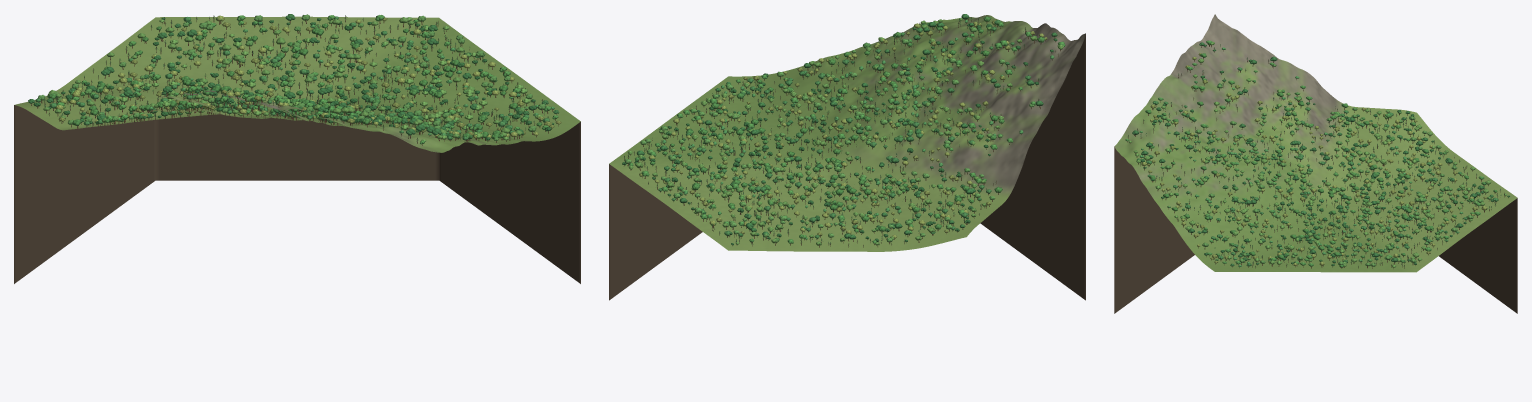
The picture shows the model from 3 angles, left to right: view 1: azimuth 30°, elevation 25°; view 2: azimuth 150°, elevation 25°; view 3: azimuth 270°, elevation 25°; orthographic projection. The views are drawn at different scales.
Parts seen in each view (by area): view 1: hex_side_cut, terrain, broadleaf_canopy, trunks, conifer_canopy; view 2: terrain, broadleaf_canopy, hex_side_cut, trunks, conifer_canopy; view 3: terrain, broadleaf_canopy, hex_side_cut, trunks, conifer_canopy.
Part boxes in pixels (bbox=[...]): hex_side_cut: bbox=[14, 105, 580, 283]; terrain: bbox=[15, 16, 580, 152]; broadleaf_canopy: bbox=[28, 14, 561, 144]; trunks: bbox=[31, 15, 558, 145]; conifer_canopy: bbox=[44, 15, 548, 141]; terrain: bbox=[609, 15, 1085, 251]; broadleaf_canopy: bbox=[622, 14, 1065, 245]; hex_side_cut: bbox=[609, 34, 1085, 300]; trunks: bbox=[624, 18, 1060, 247]; conifer_canopy: bbox=[624, 15, 1055, 245]; terrain: bbox=[1114, 14, 1517, 272]; broadleaf_canopy: bbox=[1125, 40, 1509, 267]; hex_side_cut: bbox=[1114, 147, 1517, 313]; trunks: bbox=[1127, 45, 1508, 268]; conifer_canopy: bbox=[1128, 44, 1504, 266].
Size of the model in its own units: 4330 by 3093 by 5000.
6 materials, 1 textured.
